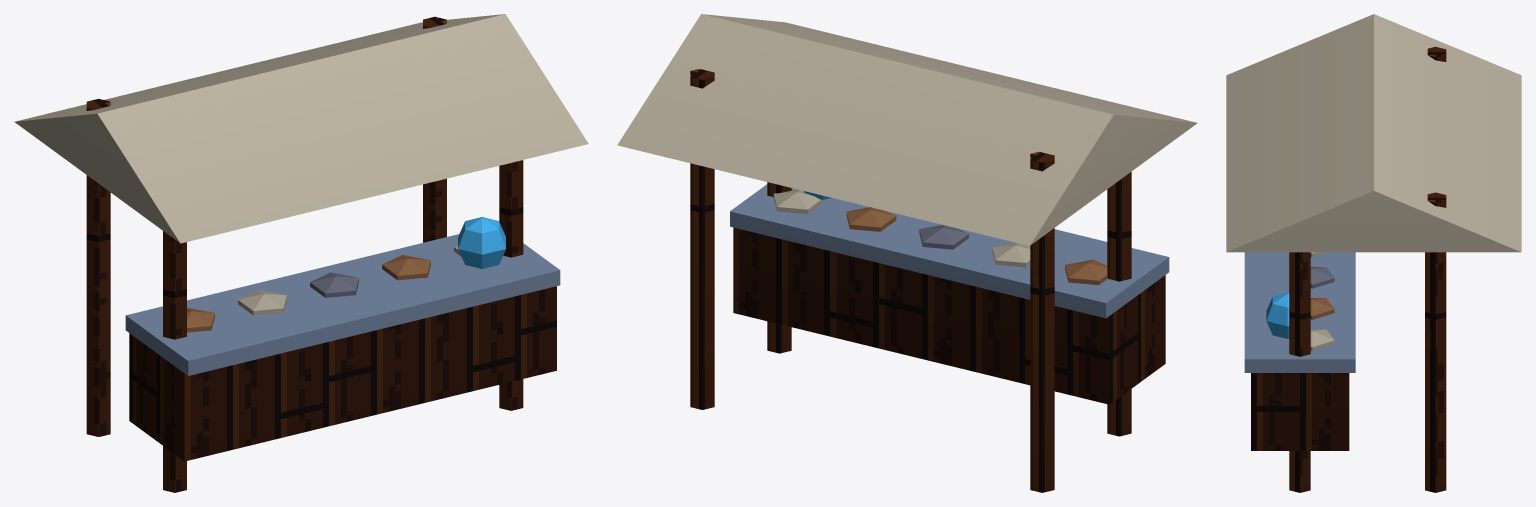
File: fur_stall.glb
3 views of the same model, side by side, from view 1: azimuth 30°, elevation 25°; view 2: azimuth 150°, elevation 25°; view 3: azimuth 270°, elevation 25° (orthographic). The views are drawn at different scales.
Parts seen in each view (by area): view 1: fur_stall; view 2: fur_stall; view 3: fur_stall.
Boxes of the visible parts, box(x1,y1,x2,y2) form: fur_stall: box(14, 14, 588, 492); fur_stall: box(617, 14, 1197, 492); fur_stall: box(1226, 14, 1521, 492).
Bounding box in the file's own units: 3.4 × 2.8 × 2.4.
3 materials, 1 textured.
